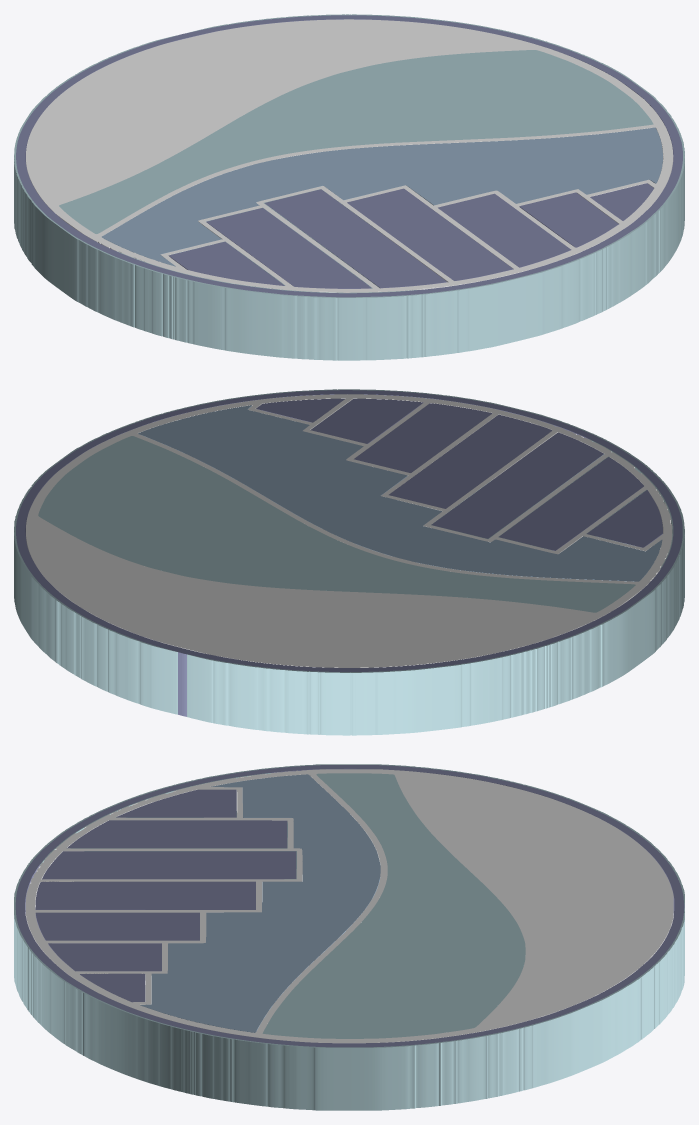
The model's file is seaborn-1.glb.
3 renders of one model, top to bottom at view 1: azimuth 30°, elevation 25°; view 2: azimuth 150°, elevation 25°; view 3: azimuth 270°, elevation 25°, orthographic.
Visible parts, largest first — view 1: Node1, Node3, Node2, Node16, Node8, Node9, Node10, Node11, Node12, Node13, Node14, Node15; view 2: Node1, Node3, Node2, Node16, Node8, Node9, Node10, Node11, Node12, Node13, Node14, Node15; view 3: Node1, Node3, Node2, Node16, Node8, Node9, Node10, Node11, Node12, Node13, Node14, Node15.
Boxes of the visible parts, x1,y1,x2,y2 form: Node1: (26,19,673,292); Node3: (14,14,684,360); Node2: (59,50,653,233); Node16: (101,127,662,266); Node8: (16,15,682,297); Node9: (264,189,446,288); Node10: (347,188,513,280); Node11: (206,208,371,288); Node12: (438,193,570,267); Node13: (519,192,618,247); Node14: (168,241,284,285); Node15: (590,183,653,220); Node1: (26,394,672,667); Node3: (14,389,684,735); Node2: (38,436,635,612); Node16: (138,405,662,581); Node8: (16,390,682,716); Node9: (431,432,603,538); Node10: (389,414,552,508); Node11: (499,457,643,550); Node12: (354,403,492,472); Node13: (310,398,423,443); Node14: (587,490,662,547); Node15: (256,398,344,422); Node1: (25,769,673,1043); Node3: (14,764,684,1110); Node2: (262,773,525,1038); Node16: (140,774,380,1032); Node8: (15,765,684,1047); Node9: (42,851,296,879); Node10: (35,881,255,909); Node11: (67,820,287,848); Node12: (35,912,199,940); Node13: (48,943,161,971); Node14: (116,789,236,817); Node15: (79,973,145,1002).
Bounding box in the file's own units: 96.89 × 10 × 96.82.
